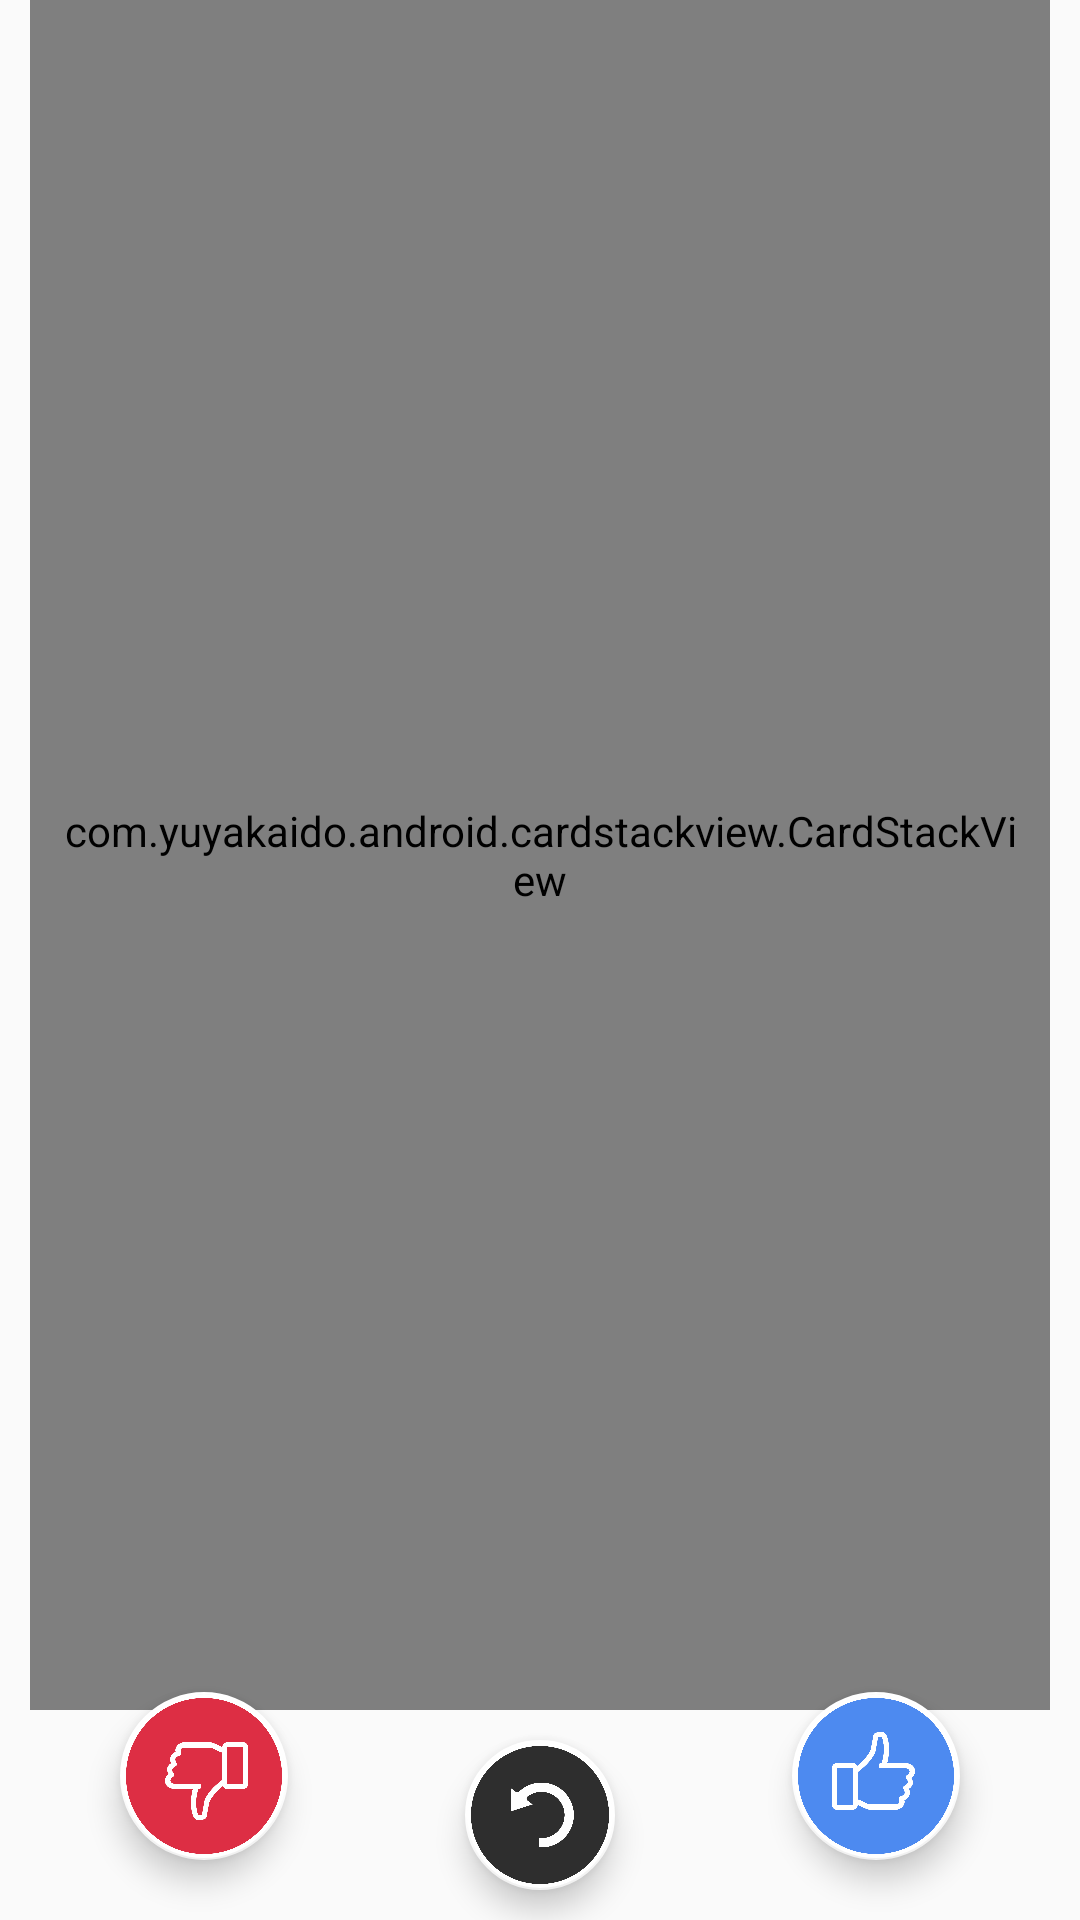

Icon click points for this 1080px×1920px phone screenshot, format [x,y]:
dislike: [204,1776]
like: [876,1776]
rewind: [540,1815]
